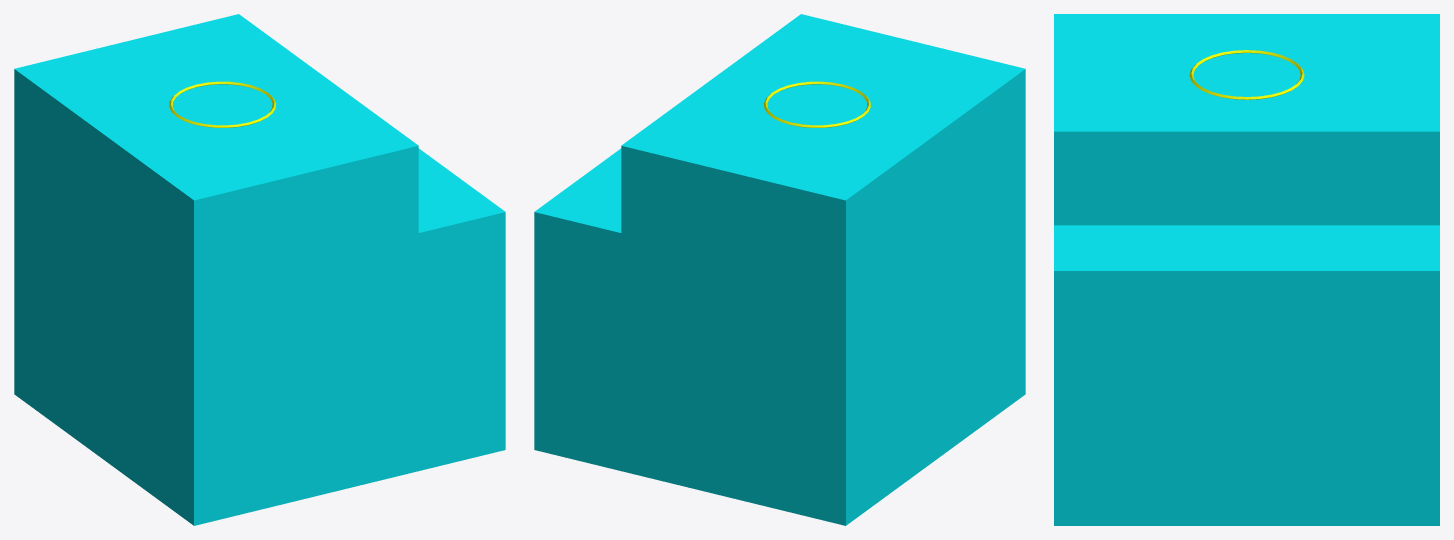
Rendered from punto1.glb.
The picture shows the model from 3 angles, left to right: view 1: azimuth 30°, elevation 25°; view 2: azimuth 150°, elevation 25°; view 3: azimuth 270°, elevation 25°; orthographic projection. The views are drawn at different scales.
Visible parts, largest first — view 1: Box001, punto1; view 2: Box001, punto1; view 3: Box001, punto1.
Part boxes in pixels (left/top/right/bottom): Box001: left=14, top=14, right=505, bottom=525; punto1: left=169, top=81, right=276, bottom=127; Box001: left=534, top=14, right=1025, bottom=525; punto1: left=763, top=81, right=870, bottom=127; Box001: left=1054, top=14, right=1439, bottom=525; punto1: left=1189, top=50, right=1304, bottom=99.
Size of the model in its own units: 0.508 by 0.5105 by 0.508.
